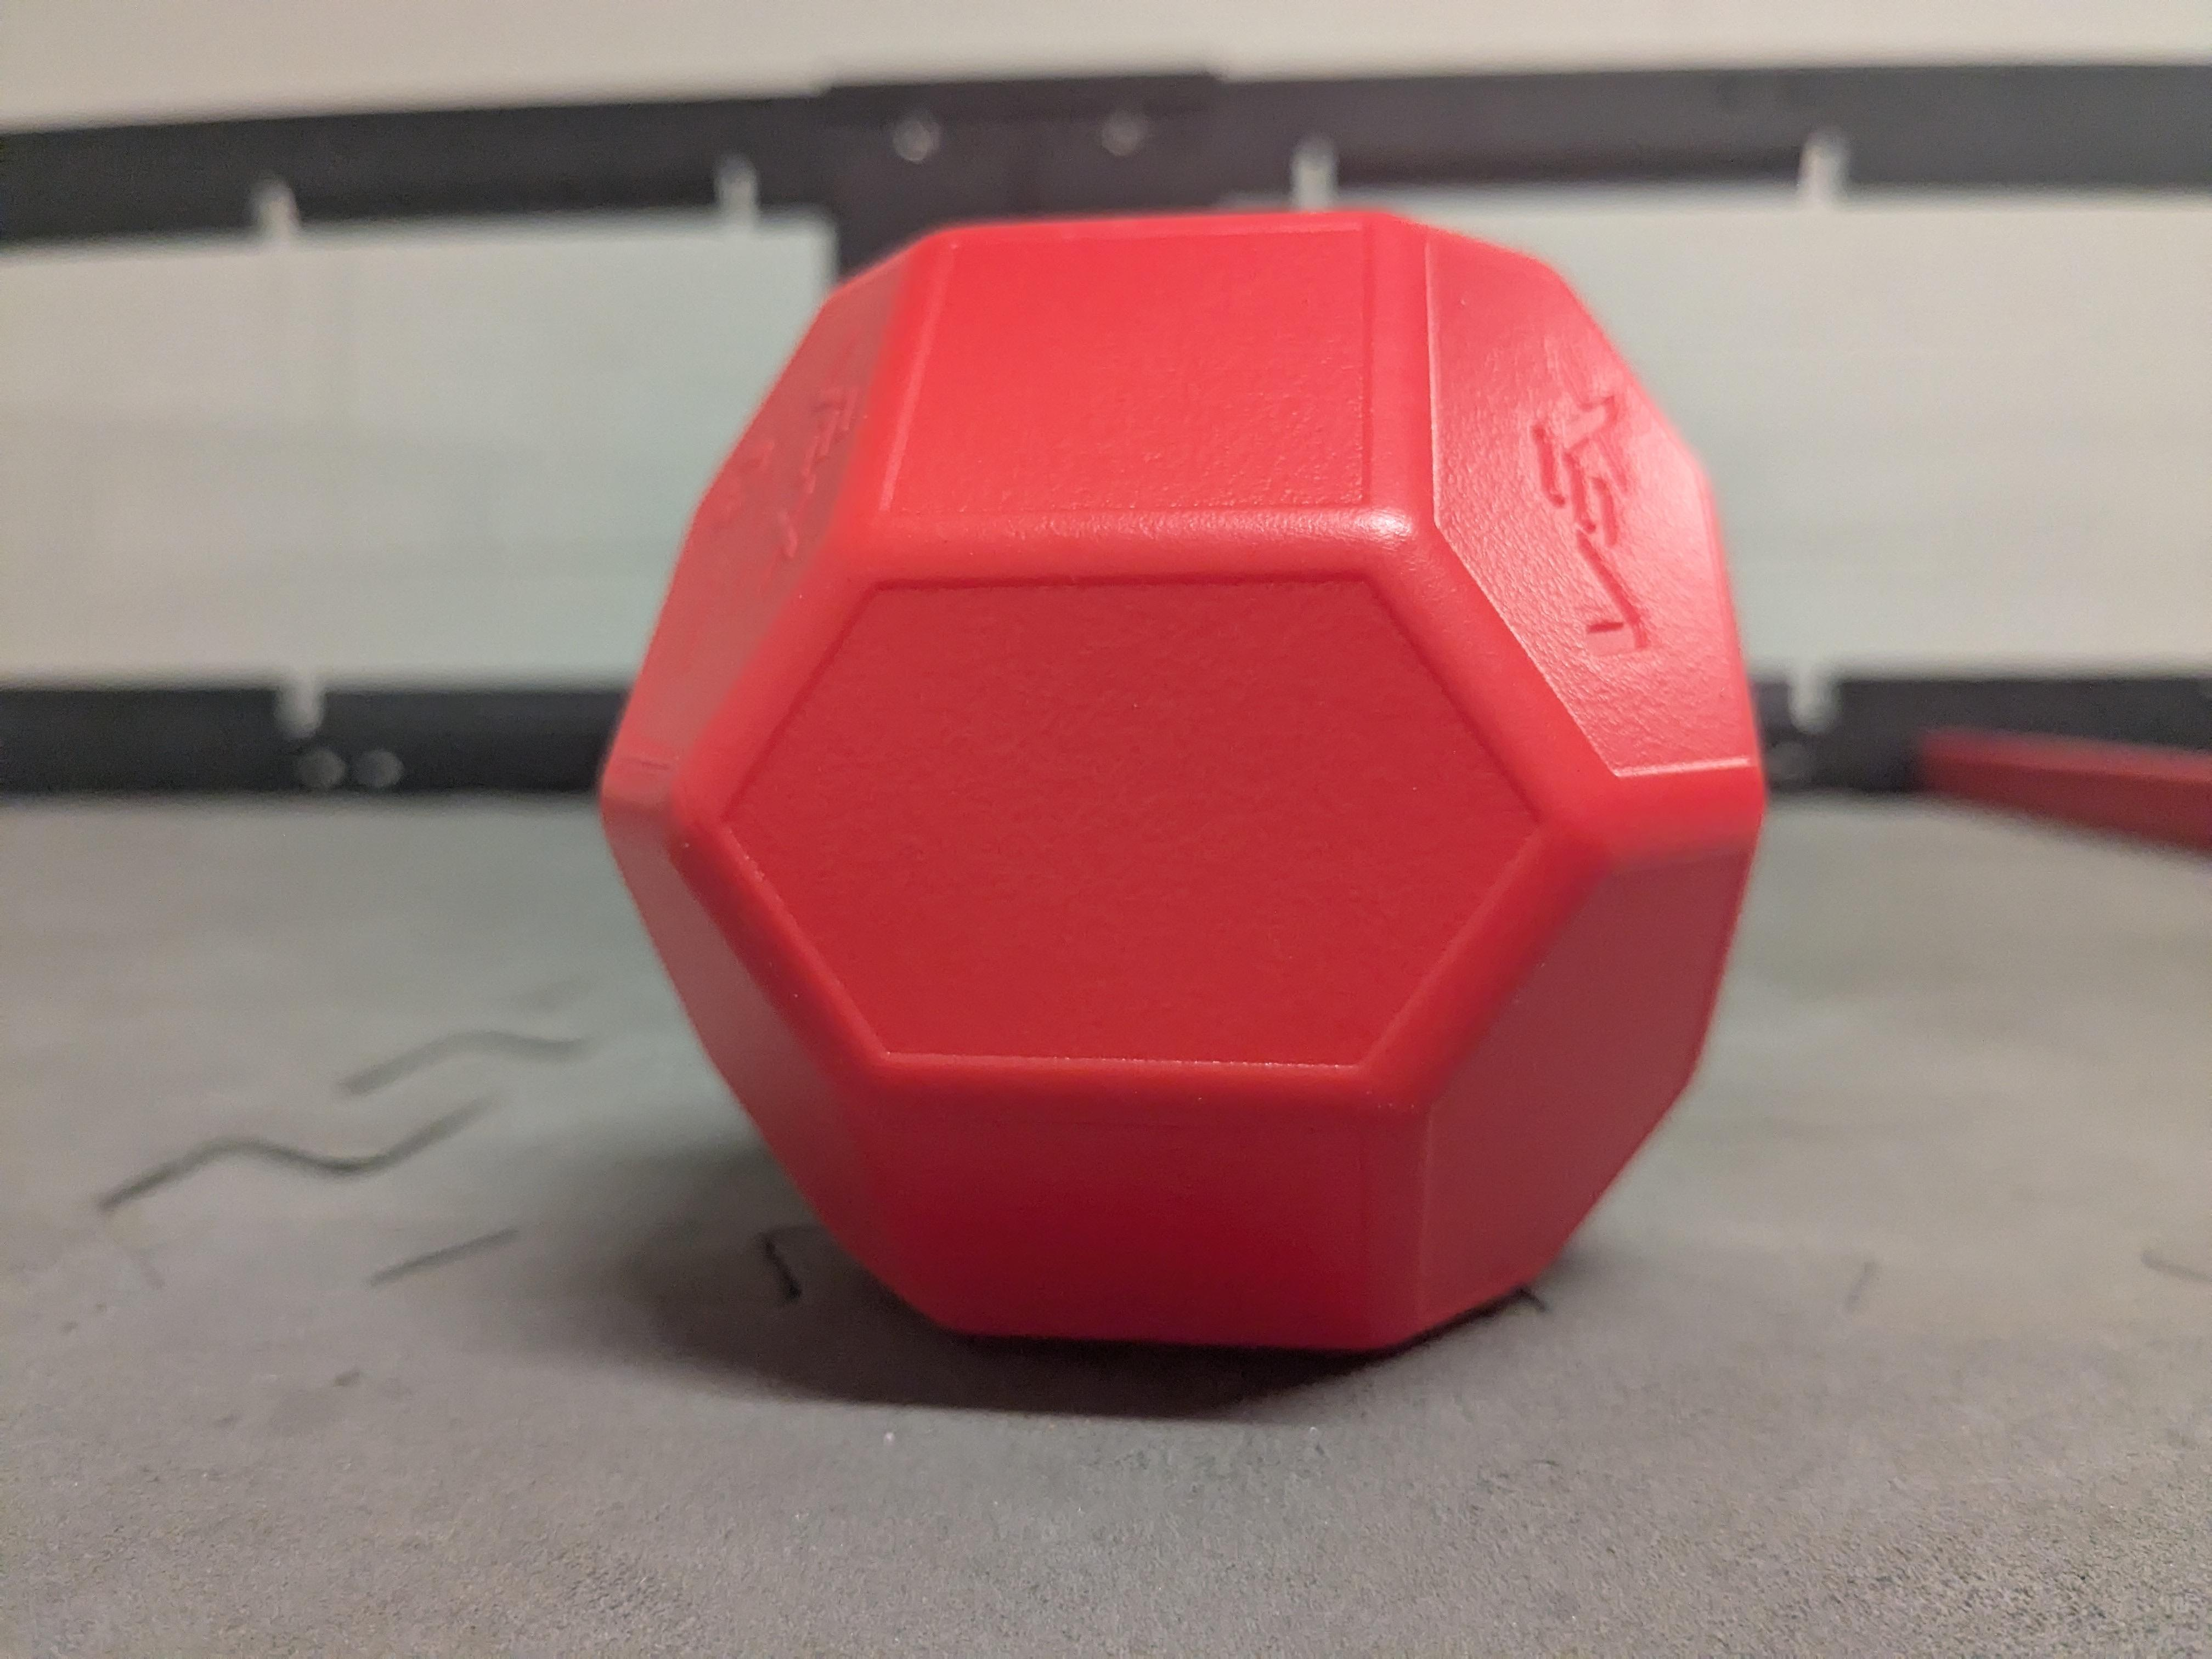Vex-Pieces-RED: (603, 213, 1763, 1349)
